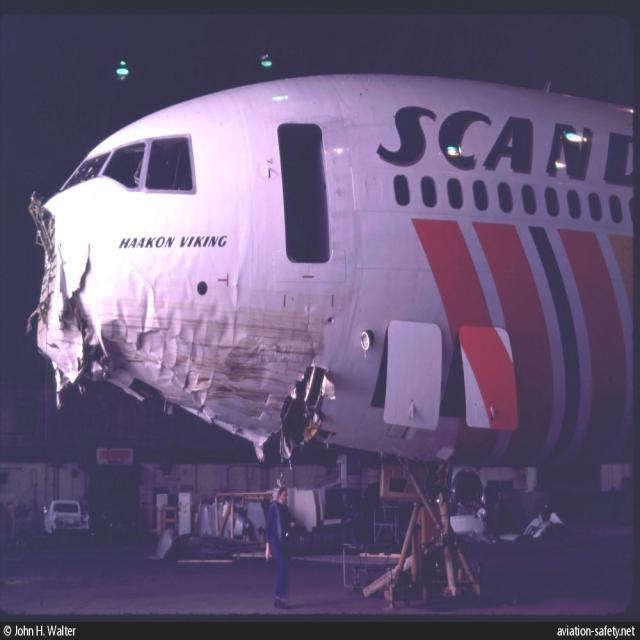crack: (302, 302, 324, 375), (73, 242, 96, 308)
dent: (191, 300, 232, 346), (137, 284, 158, 336), (115, 299, 131, 337)
